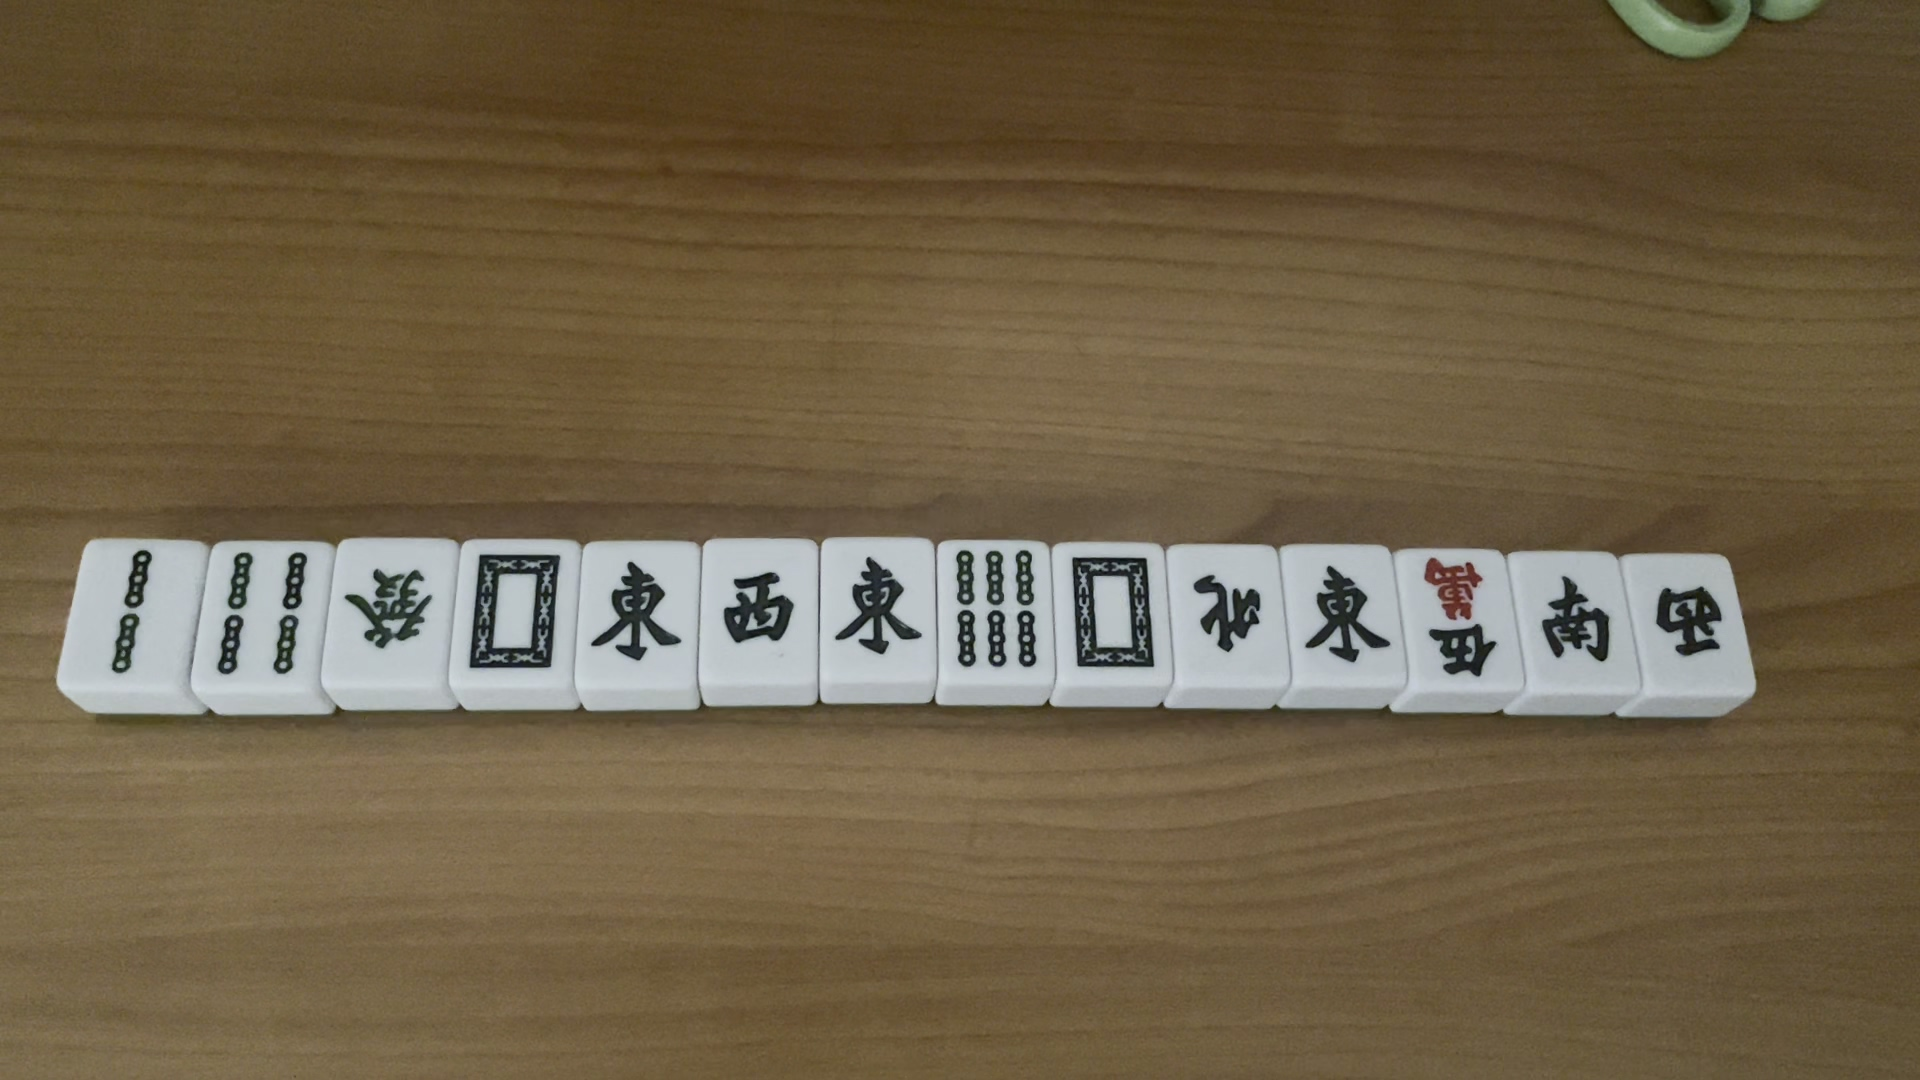b-2: (91, 545, 158, 676)
b-4: (207, 550, 313, 679)
b-6: (945, 546, 1048, 675)
c-5: (1412, 549, 1505, 688)
honors-east: (1298, 547, 1396, 676), (587, 556, 684, 670), (828, 556, 928, 666)
honors-green: (335, 562, 438, 654)
honors-north: (1183, 566, 1271, 659)
honors-south: (1534, 570, 1619, 675)
honors-west: (1644, 580, 1735, 666), (716, 562, 796, 647)
honors-white: (462, 550, 570, 676), (1060, 551, 1160, 676)
